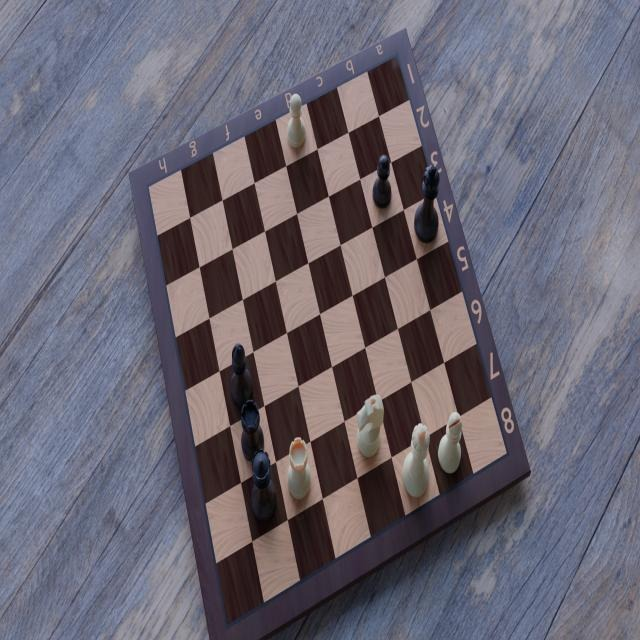black-bishop: (228, 338, 256, 413)
black-king: (414, 160, 442, 248)
black-pawn: (370, 147, 393, 214)
black-queen: (249, 457, 279, 527)
black-rook: (240, 403, 268, 465)
white-bishop: (438, 415, 466, 477)
white-king: (403, 420, 433, 503)
white-knight: (355, 394, 385, 466)
white-pawn: (284, 90, 308, 154)
white-rook: (283, 433, 313, 504)
